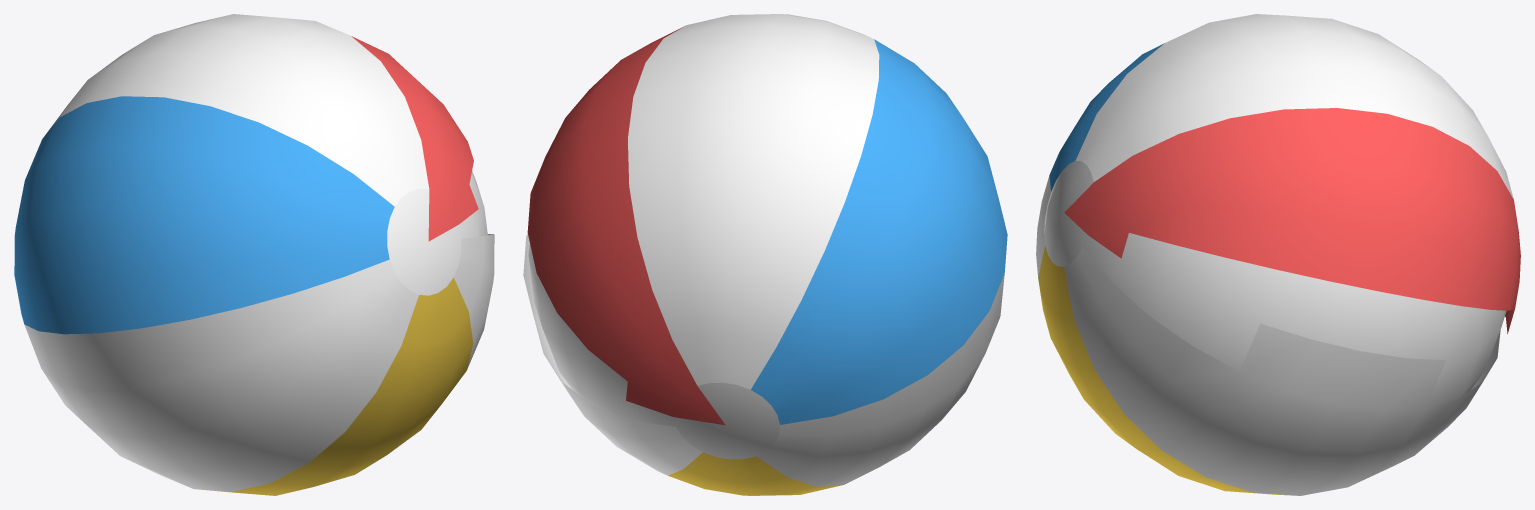
Rendered from icon_throw.glb.
The picture shows the model from 3 angles, left to right: view 1: azimuth 30°, elevation 25°; view 2: azimuth 150°, elevation 25°; view 3: azimuth 270°, elevation 25°; orthographic projection.
Visible parts, largest first — view 1: icon_throw; view 2: icon_throw; view 3: icon_throw.
Part boxes in pixels (x1=…): icon_throw: x1=14, y1=14, x2=494, y2=495; icon_throw: x1=523, y1=14, x2=1007, y2=495; icon_throw: x1=1036, y1=14, x2=1520, y2=495.
Bounding box in the file's own units: 0.3951 × 0.398 × 0.3996.
